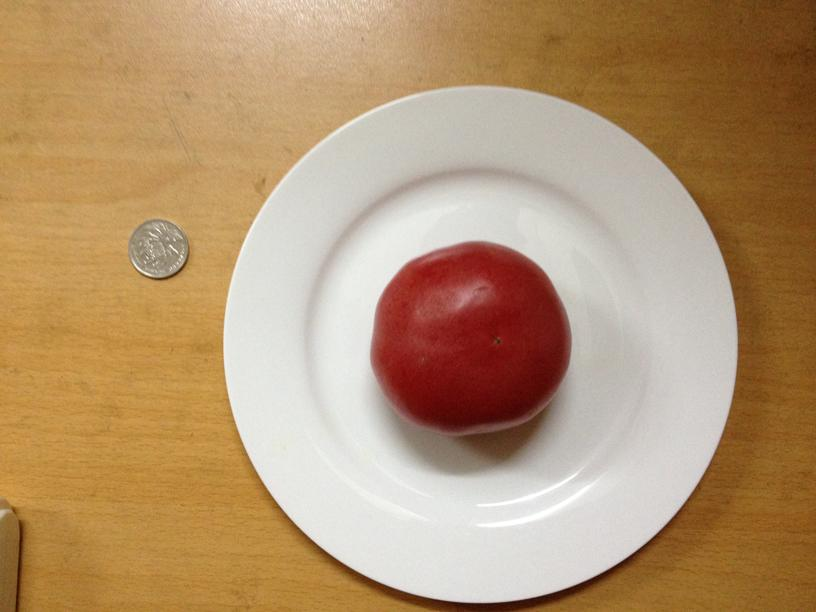coin: (124, 218, 189, 279)
tomato: (368, 241, 570, 437)
